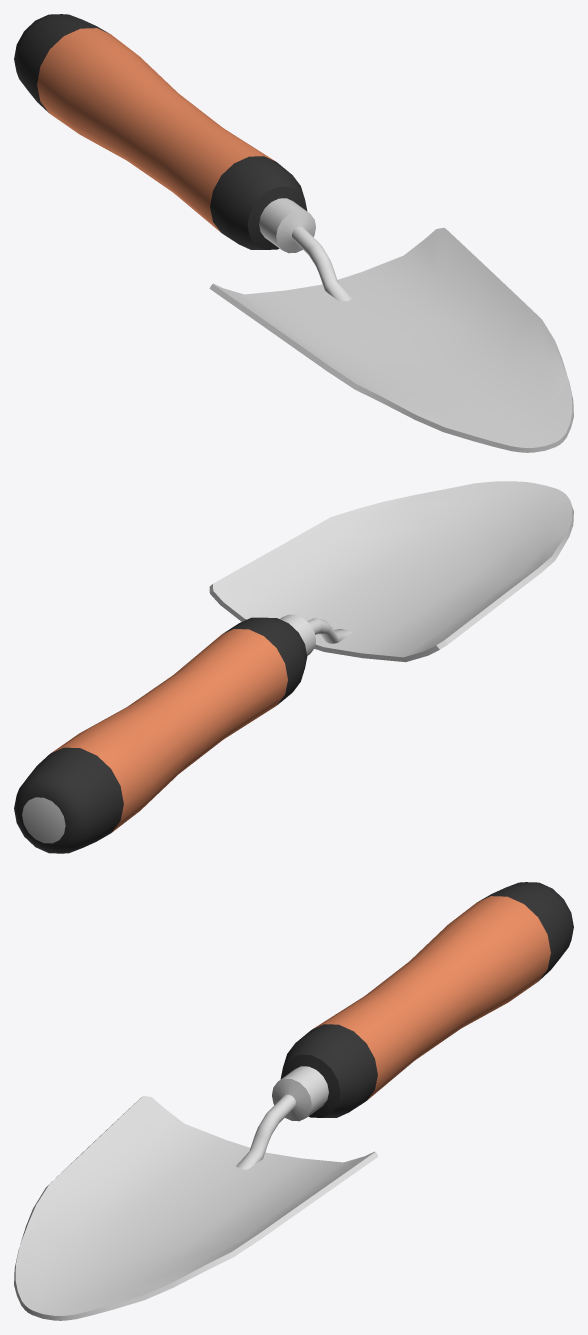
File: trowel.fbx
The picture shows the model from 3 angles, top to bottom: view 1: azimuth 30°, elevation 25°; view 2: azimuth 150°, elevation 25°; view 3: azimuth 330°, elevation 25°; orthographic projection.
Parts seen in each view (by area): view 1: trowelLowHandle; view 2: trowelLowHandle; view 3: trowelLowHandle.
Boxes of the visible parts, box(x1,y1,x2,y2) form: trowelLowHandle: box(14, 14, 573, 452); trowelLowHandle: box(14, 481, 573, 853); trowelLowHandle: box(14, 882, 573, 1320).
Size of the model in its own units: 458 by 167 by 1669.
